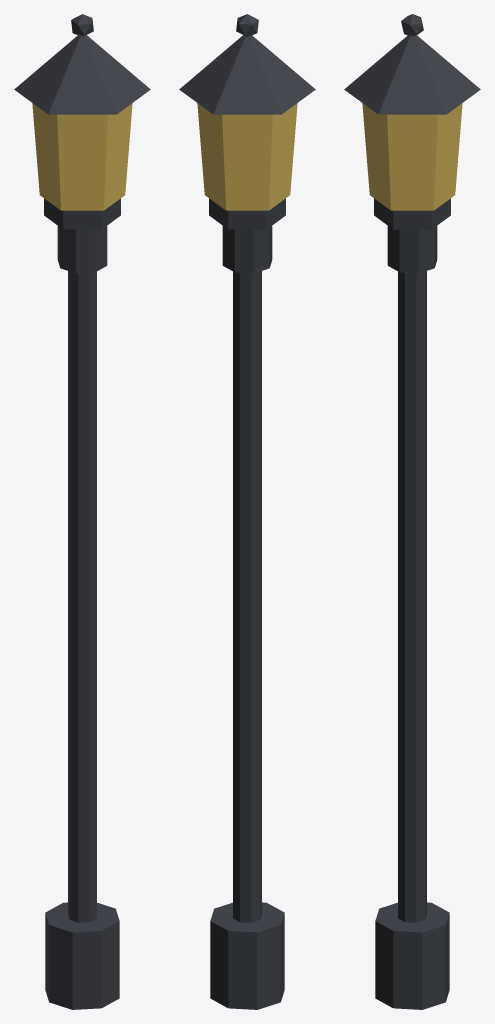
File: street_lamp.glb
The picture shows the model from 3 angles, left to right: view 1: azimuth 30°, elevation 25°; view 2: azimuth 150°, elevation 25°; view 3: azimuth 330°, elevation 25°; orthographic projection.
Visible parts, largest first — view 1: street_lamp; view 2: street_lamp; view 3: street_lamp.
Boxes of the visible parts, x1,y1,x2,y2 form: street_lamp: (14,14,150,1009); street_lamp: (179,14,315,1009); street_lamp: (344,14,480,1009).
Bounding box in the file's own units: 0.5543 × 5.06 × 0.64.
